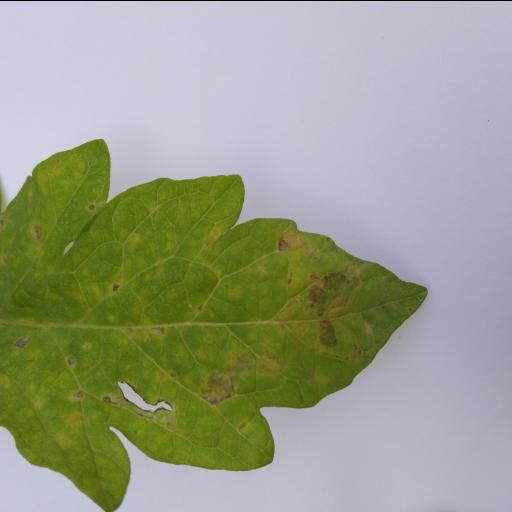Early Blight: (0, 133, 425, 512)
